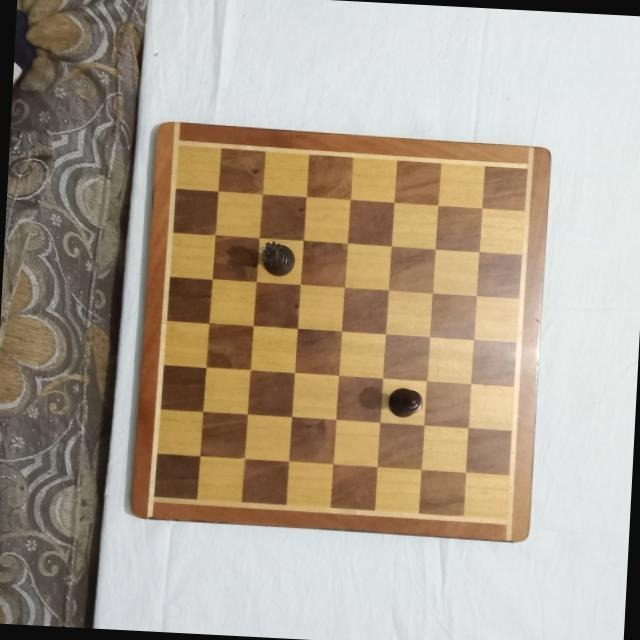black-king: (385, 386, 423, 420)
black-queen: (257, 240, 294, 278)
